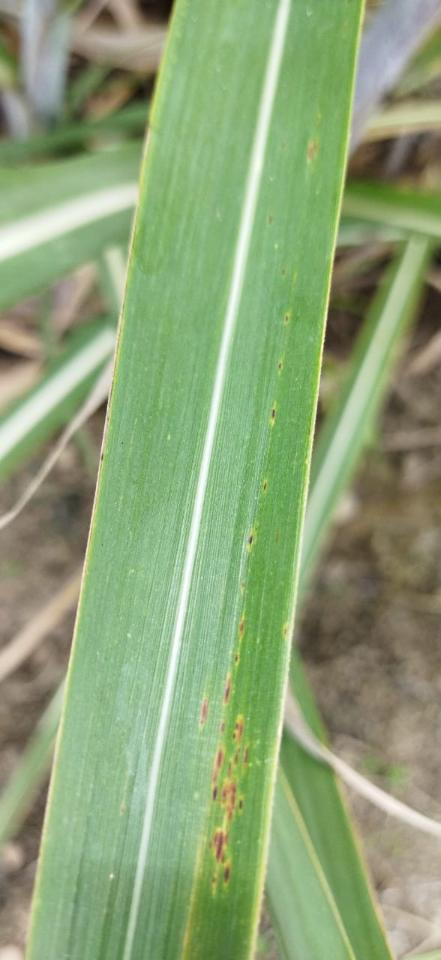Rust: (191, 612, 256, 899), (246, 525, 259, 554), (268, 402, 281, 423), (274, 356, 286, 375), (281, 312, 291, 326), (261, 480, 270, 494)
